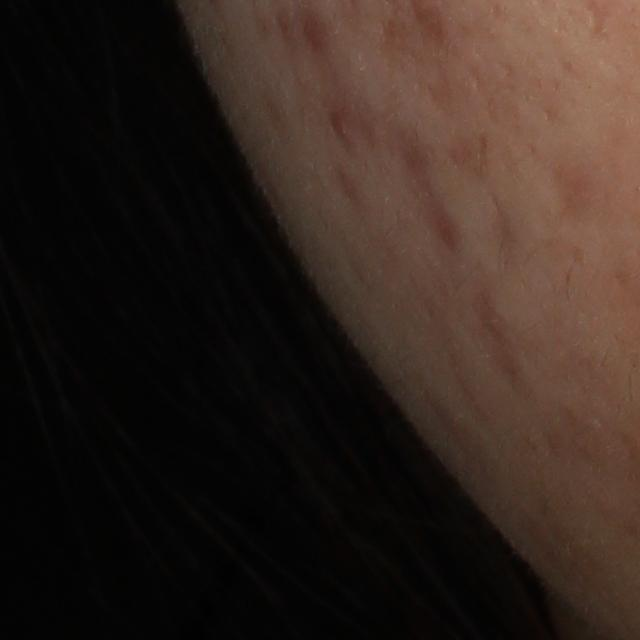atrophic_scar: (388, 132, 466, 257)
papule: (331, 114, 352, 142)
